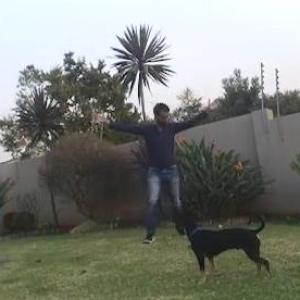takeoff: (91, 101, 216, 232)
